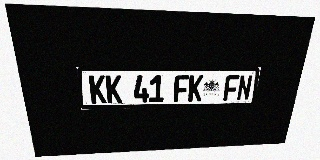1: (149, 75, 164, 102)
4: (134, 75, 149, 103)
F: (223, 75, 239, 101), (174, 75, 189, 102)
K: (89, 75, 107, 104), (105, 75, 122, 103), (188, 75, 204, 102)
N: (236, 75, 253, 100)
